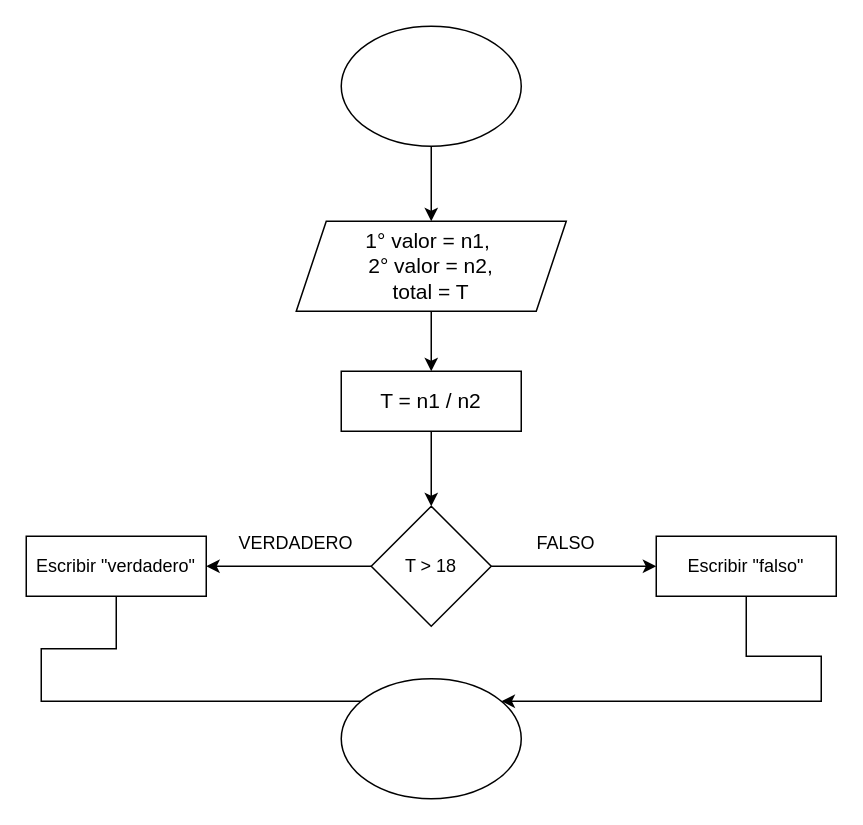
The diagram is 863 pixels wide and 825 high, and some of its shapes have lost their labels. Each missing label, with the centre of its shape:
Fin: (x=430, y=738)
Inicio: (x=430, y=85)
